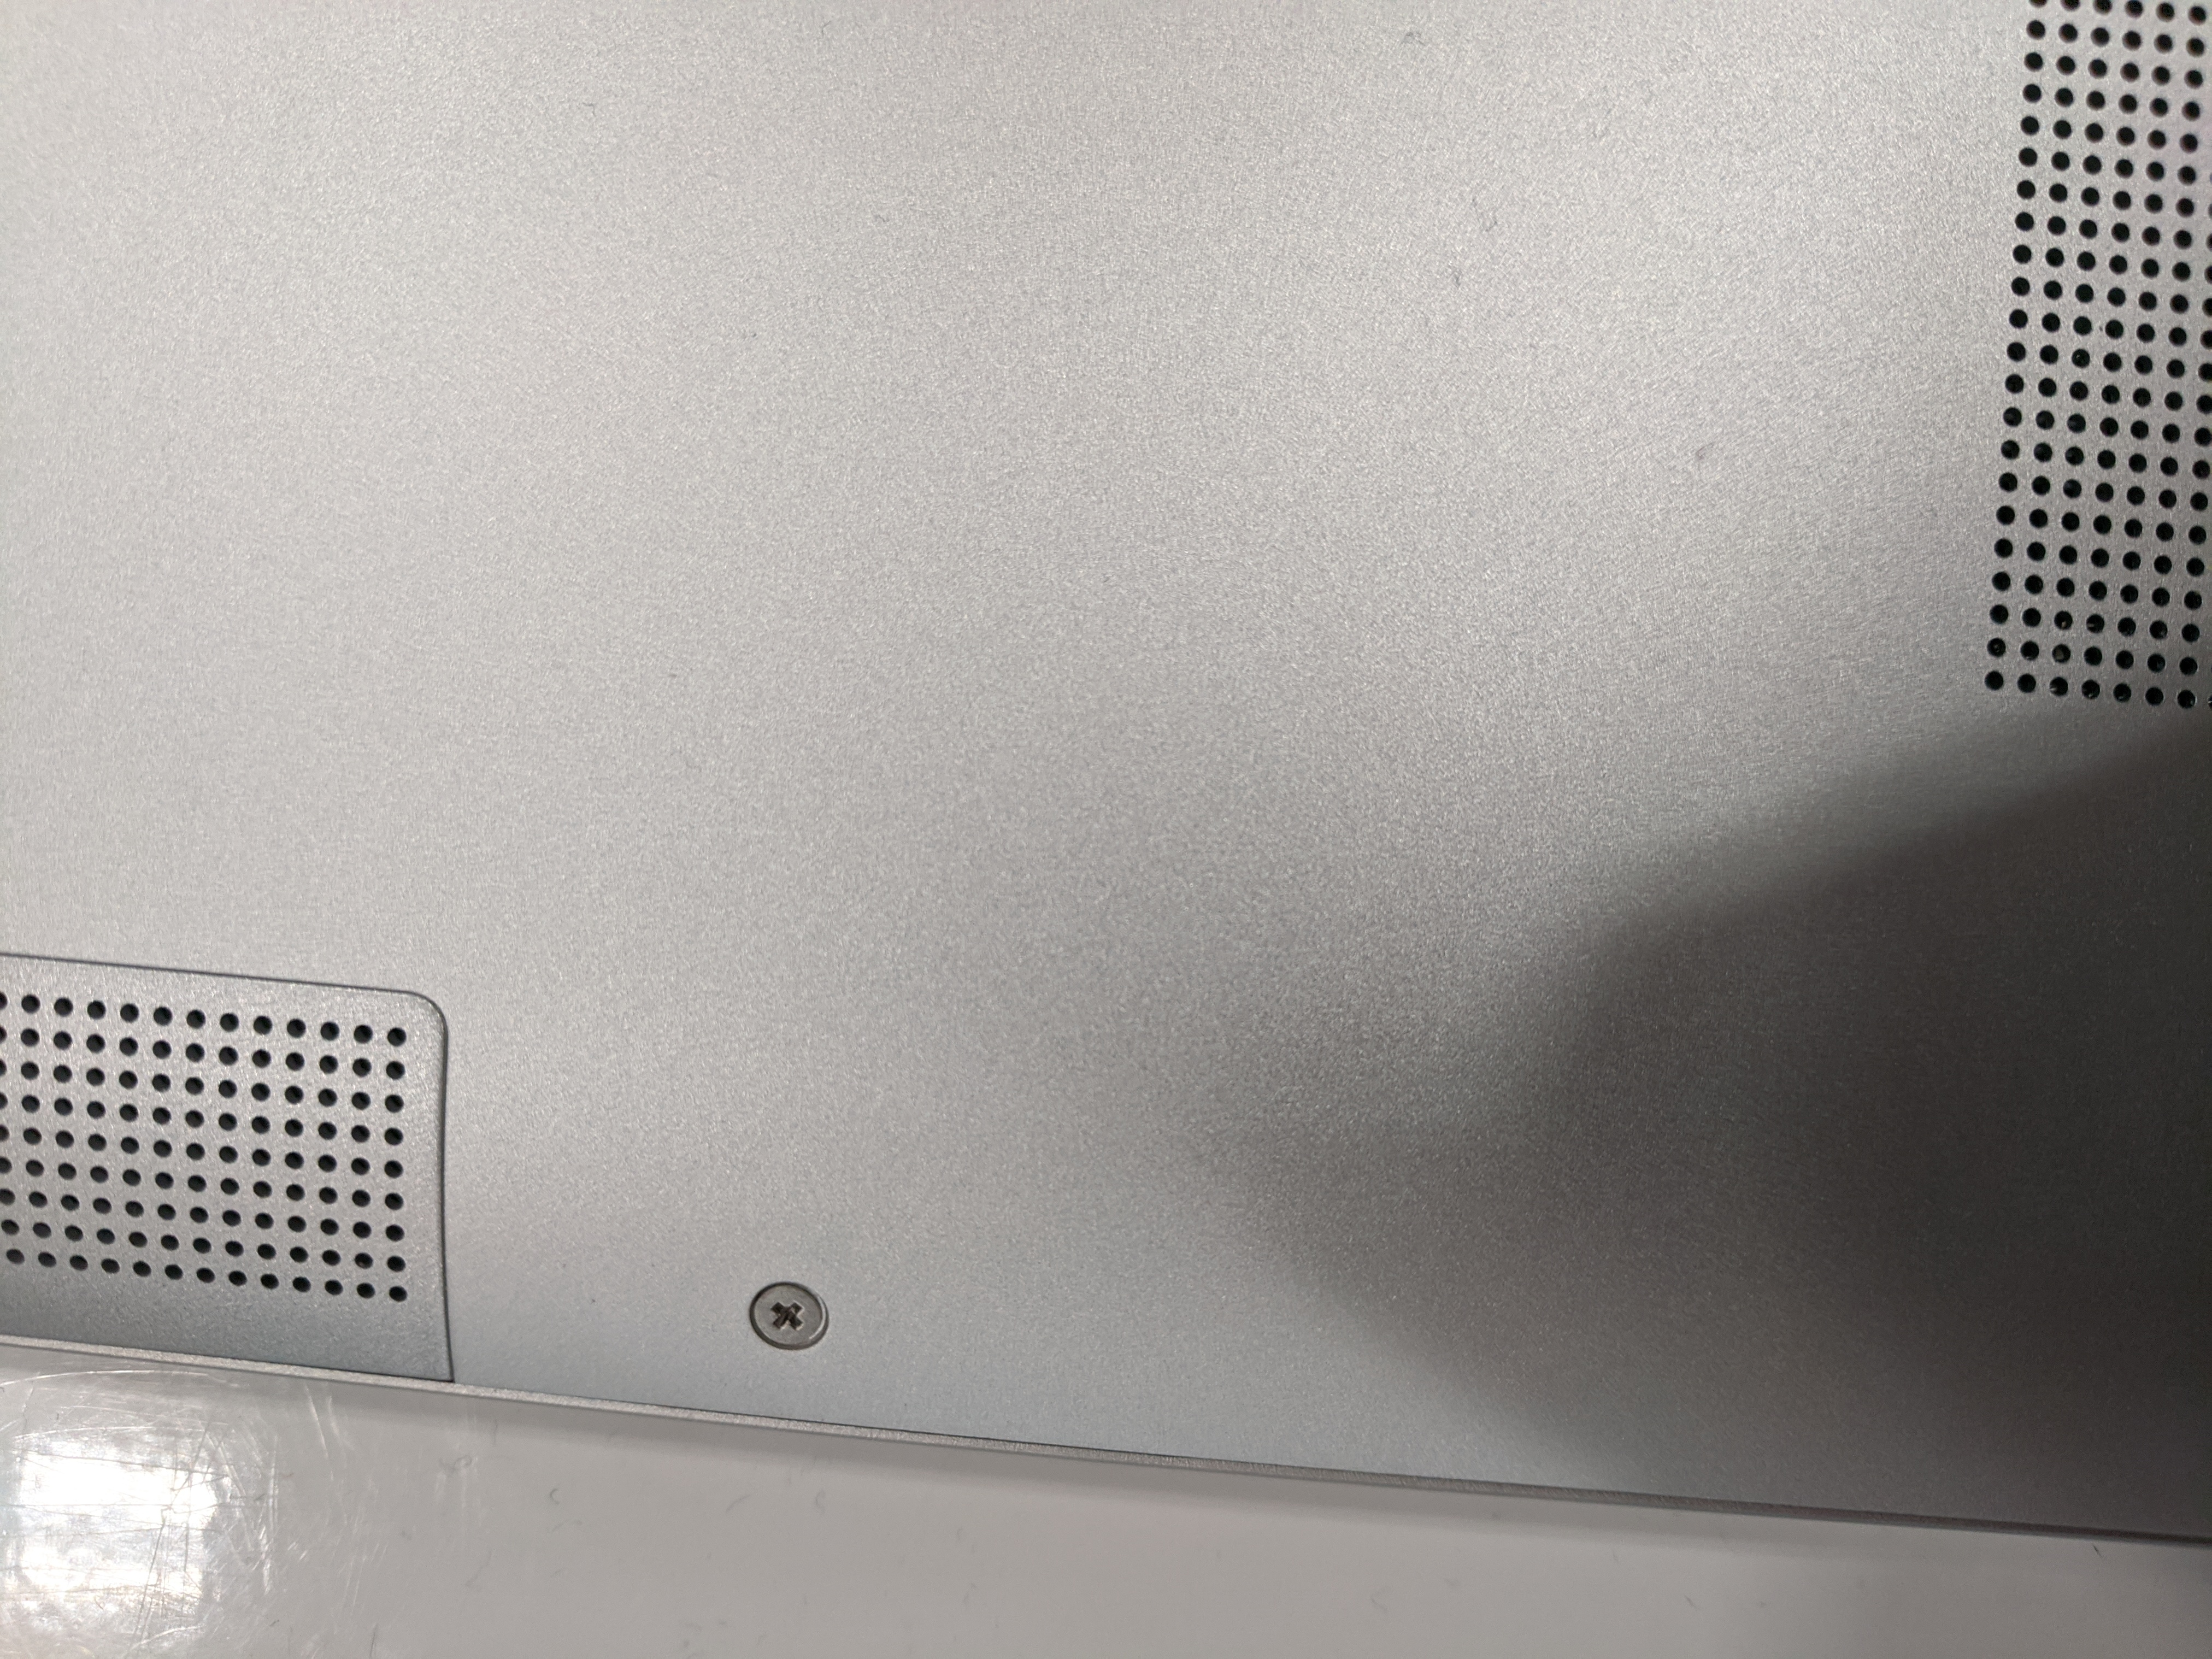cross_recessed_screw: (738, 1258, 841, 1363)
